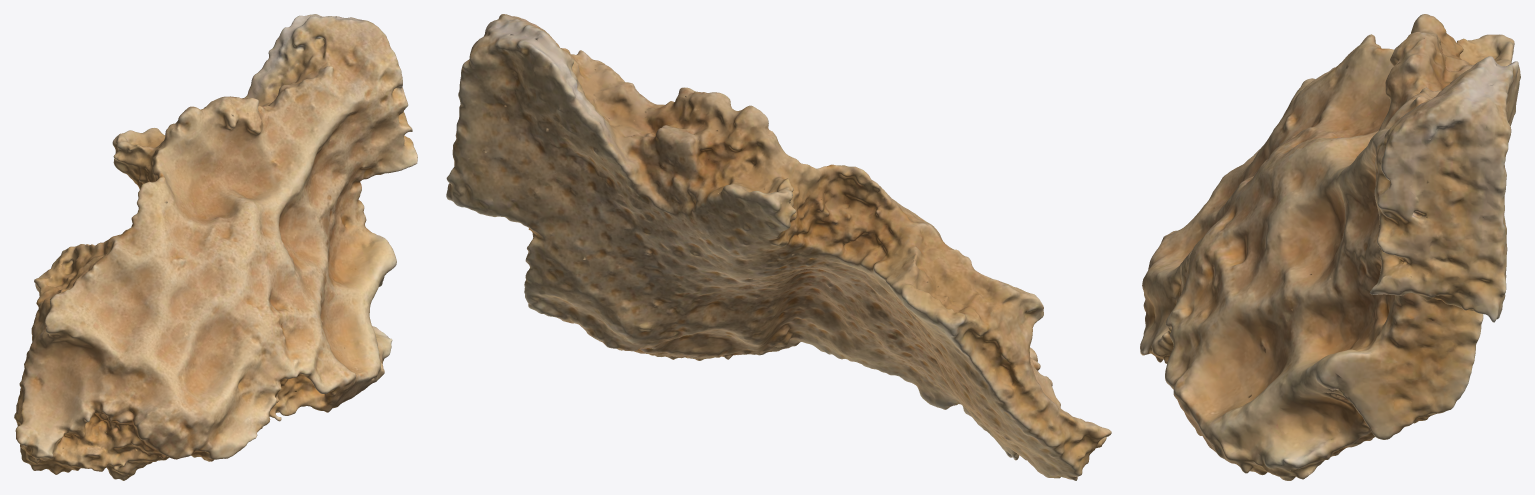
Rendered from smithsonian-chonelasma-oreia.glb.
3 views of the same model, side by side, from view 1: azimuth 30°, elevation 25°; view 2: azimuth 150°, elevation 25°; view 3: azimuth 270°, elevation 25° (orthographic). The views are drawn at different scales.
Visible parts, largest first — view 1: Chonelasma_oreia-unwrapped-webmulti; view 2: Chonelasma_oreia-unwrapped-webmulti; view 3: Chonelasma_oreia-unwrapped-webmulti.
Part boxes in pixels (x1,y1,x2,y2): Chonelasma_oreia-unwrapped-webmulti: [14, 14, 417, 480]; Chonelasma_oreia-unwrapped-webmulti: [446, 14, 1111, 480]; Chonelasma_oreia-unwrapped-webmulti: [1140, 14, 1520, 480].
Size of the model in its own units: 1.64 by 1.17 by 0.8389.
1 material, 1 textured.
